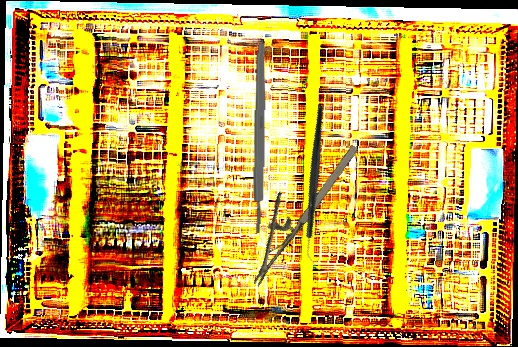Chopper: (256, 104, 378, 267)
Needle Holder: (225, 127, 363, 287)
Scalpel Handle: (252, 43, 267, 234)
